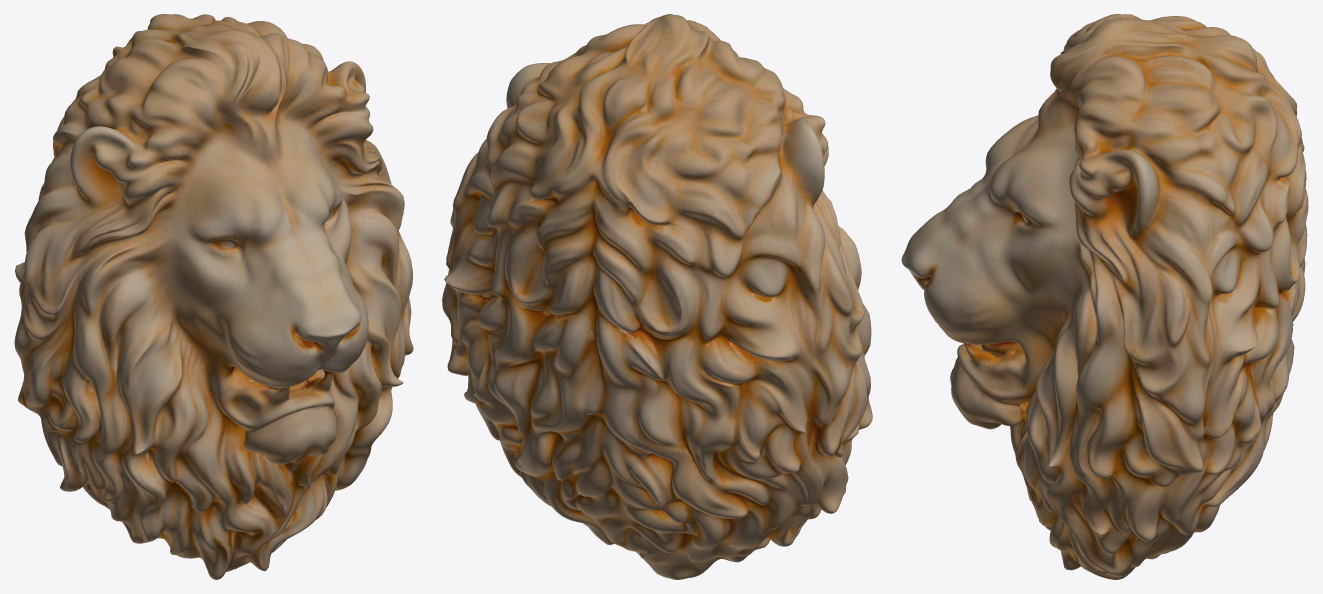
Rendered from sunway_lion.glb.
3 renders of one model, left to right at view 1: azimuth 30°, elevation 25°; view 2: azimuth 150°, elevation 25°; view 3: azimuth 270°, elevation 25°, orthographic. The views are drawn at different scales.
Visible parts, largest first — view 1: low_Material.001_0; view 2: low_Material.001_0; view 3: low_Material.001_0.
Part boxes in pixels (x1=…): low_Material.001_0: x1=14, y1=14, x2=413, y2=579; low_Material.001_0: x1=442, y1=14, x2=872, y2=579; low_Material.001_0: x1=901, y1=14, x2=1308, y2=579.
Bounding box in the file's own units: 1.45 × 1.95 × 1.3.
1 material, 1 textured.
